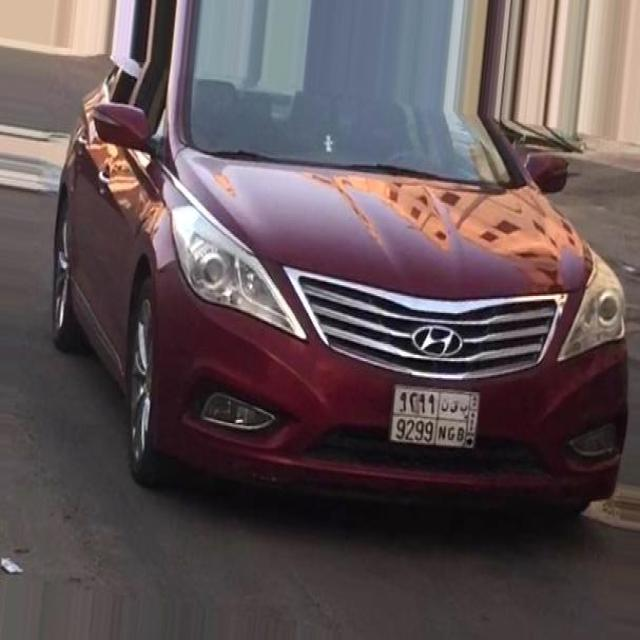Car-plate: (381, 372, 494, 464)
